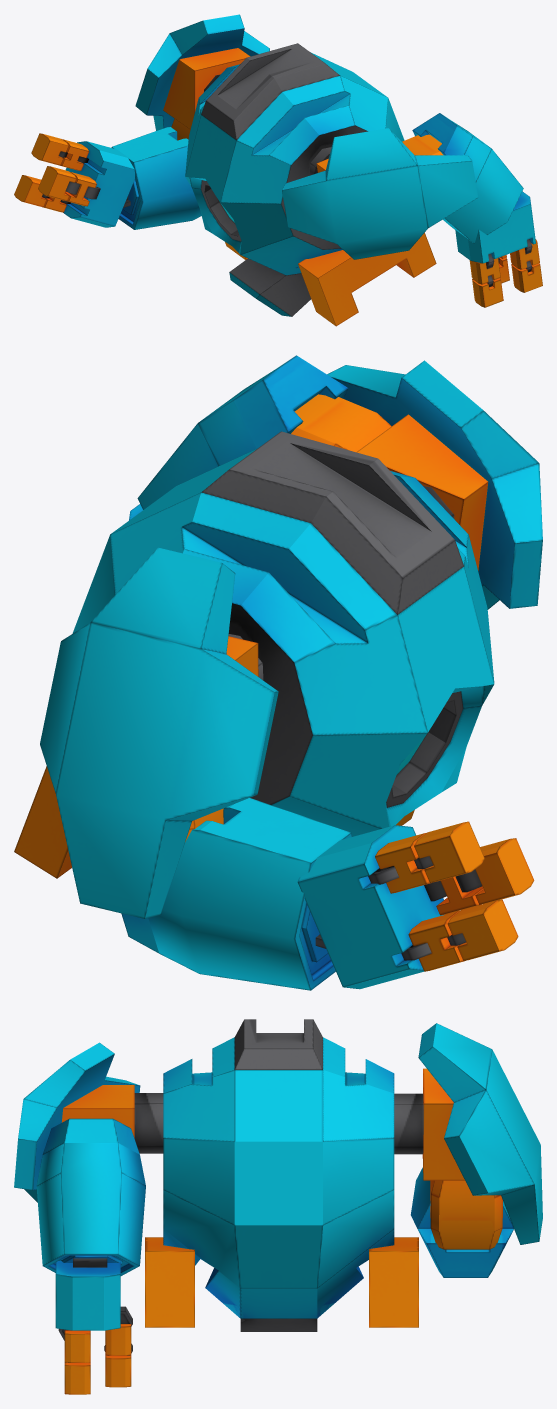
File: Body_Running21.obj
The picture shows the model from 3 angles, top to bottom: view 1: azimuth 30°, elevation 25°; view 2: azimuth 150°, elevation 25°; view 3: azimuth 270°, elevation 25°; orthographic projection. The views are drawn at different scales.
Visible parts, largest first — view 1: Plane001, Object006, Object002, Object004, Object003, Object007, Object008; view 2: Plane001, Object002, Object004, Object006, Object003, Object007; view 3: Plane001, Object002, Object007, Object008, Object006, Object003, Object001, Object005.
Boxes of the visible parts, bbox=[...] form: Plane001: bbox=[185, 43, 436, 326]; Object006: bbox=[282, 128, 478, 259]; Object002: bbox=[135, 14, 269, 140]; Object004: bbox=[14, 133, 135, 227]; Object003: bbox=[111, 127, 201, 229]; Object007: bbox=[412, 113, 523, 243]; Object008: bbox=[455, 191, 542, 307]; Plane001: bbox=[14, 431, 494, 878]; Object002: bbox=[40, 547, 278, 918]; Object004: bbox=[297, 821, 534, 989]; Object006: bbox=[291, 360, 542, 609]; Object003: bbox=[121, 798, 352, 990]; Object007: bbox=[137, 355, 348, 509]; Plane001: bbox=[145, 1019, 418, 1331]; Object002: bbox=[418, 1023, 542, 1249]; Object007: bbox=[36, 1118, 145, 1275]; Object008: bbox=[55, 1258, 132, 1394]; Object006: bbox=[14, 1042, 140, 1202]; Object003: bbox=[410, 1167, 513, 1277]; Object001: bbox=[394, 1093, 423, 1154]; Object005: bbox=[134, 1093, 163, 1153].
Size of the model in its own units: 179 by 116 by 182.
